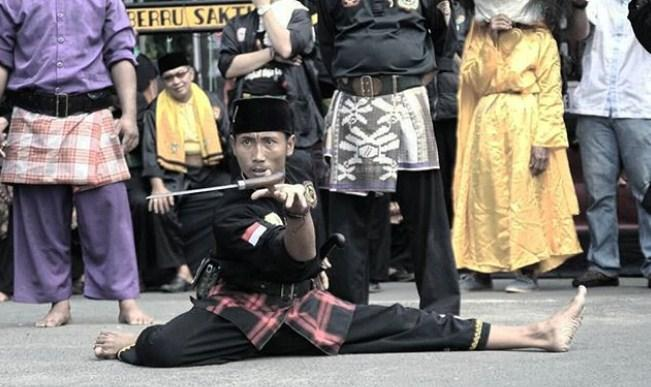facao: (130, 172, 292, 208)
